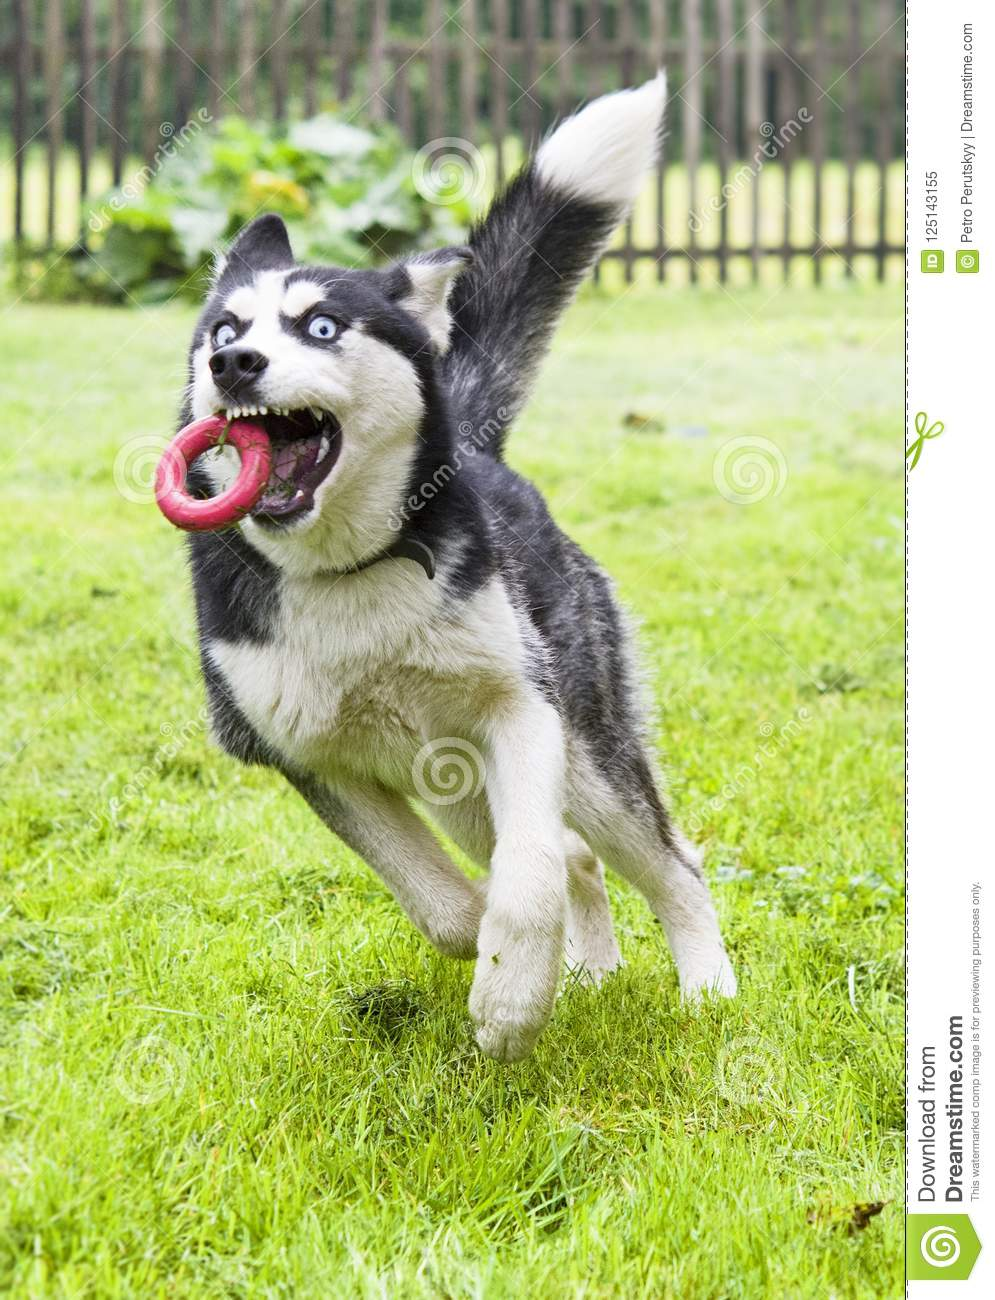husky: (151, 72, 760, 1078)
